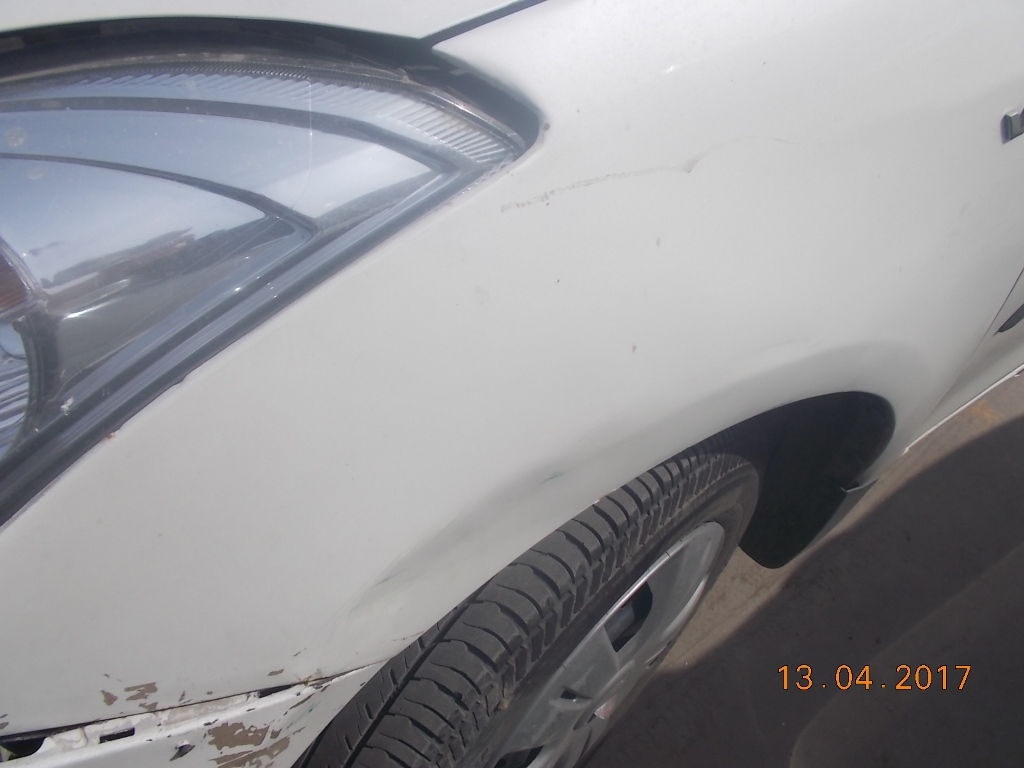Scratch_or_spot: (204, 713, 291, 761)
